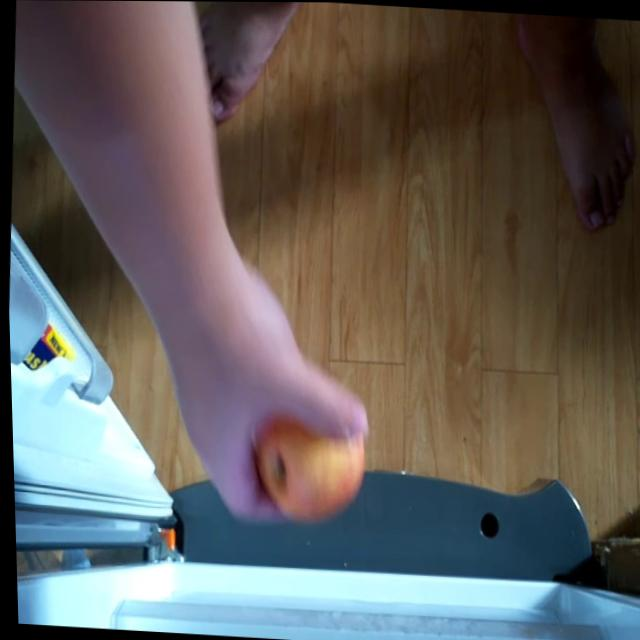apple: (250, 414, 366, 519)
